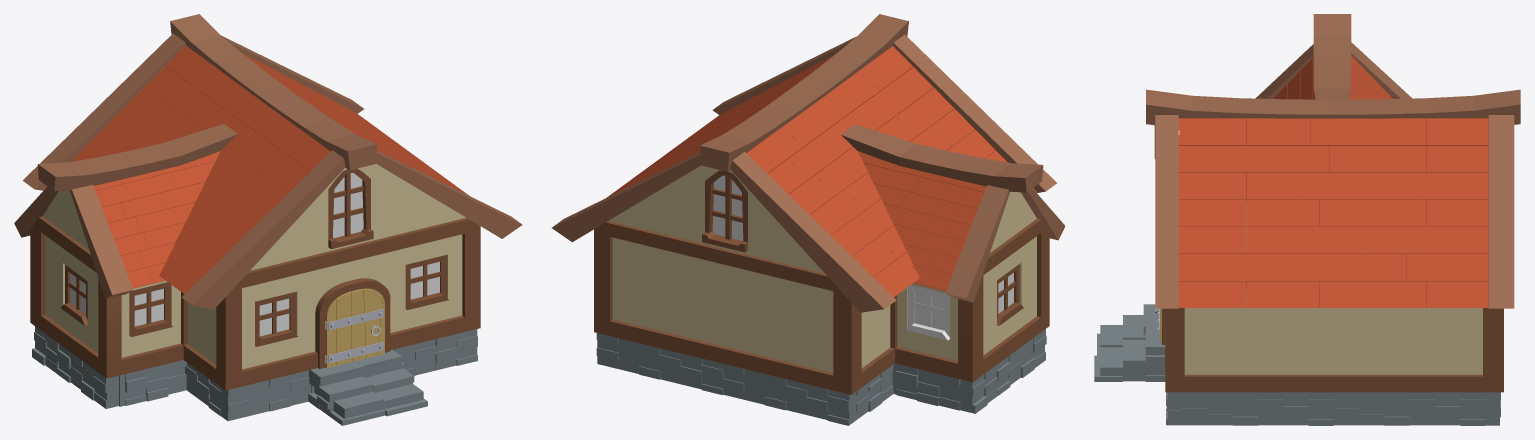
File: House.fbx
3 views of the same model, side by side, from view 1: azimuth 30°, elevation 25°; view 2: azimuth 150°, elevation 25°; view 3: azimuth 270°, elevation 25° (orthographic). The views are drawn at different scales.
Visible parts, largest first — view 1: Cube.008, Cube, Cube.001, Cube.003, Cube.004, Cube.009, Cube.010, Cube.005, Cube.002, Cube.007, Cube.006, Cube.029 (+7 smaller); view 2: Cube.008, Cube.001, Cube, Cube.004, Cube.003, Cube.009, Cube.010, Cube.005, Cube.007, Cube.006, Cube.029, Cube.025 (+2 smaller); view 3: Cube.008, Cube.001, Cube.004, Cube.003, Cube, Cube.005, Cube.002, Cube.007, Cube.009, Cube.006.
Boxes of the visible parts, box(x1,y1,x2,y2) form: Cube.008: box(43, 45, 468, 294); Cube: box(30, 216, 480, 390); Cube.001: box(45, 234, 462, 369); Cube.003: box(23, 33, 522, 309); Cube.004: box(32, 326, 477, 420); Cube.009: box(93, 151, 220, 288); Cube.010: box(43, 164, 465, 270); Cube.005: box(170, 14, 377, 170); Cube.002: box(308, 349, 427, 425); Cube.007: box(37, 124, 237, 191); Cube.006: box(14, 185, 133, 298); Cube.029: box(70, 173, 439, 336); Cube.008: box(607, 46, 1036, 296); Cube.001: box(612, 236, 1036, 372); Cube: box(594, 218, 1049, 394); Cube.004: box(596, 329, 1046, 425); Cube.003: box(552, 34, 1056, 312); Cube.009: box(858, 151, 986, 291); Cube.010: box(608, 165, 1036, 273); Cube.005: box(700, 14, 908, 171); Cube.007: box(841, 124, 1043, 192); Cube.006: box(945, 185, 1065, 302); Cube.029: box(712, 175, 1013, 330); Cube.025: box(702, 170, 747, 252); Cube.008: box(1178, 118, 1488, 307); Cube.001: box(1184, 202, 1482, 374); Cube.004: box(1166, 392, 1500, 425); Cube.003: box(1154, 115, 1514, 308); Cube: box(1165, 145, 1503, 392); Cube.005: box(1146, 89, 1520, 132); Cube.002: box(1094, 304, 1165, 381); Cube.007: box(1313, 14, 1351, 99); Cube.009: box(1246, 56, 1392, 201); Cube.006: box(1255, 42, 1412, 98).
Size of the model in its own units: 2645 by 1616 by 2365.
